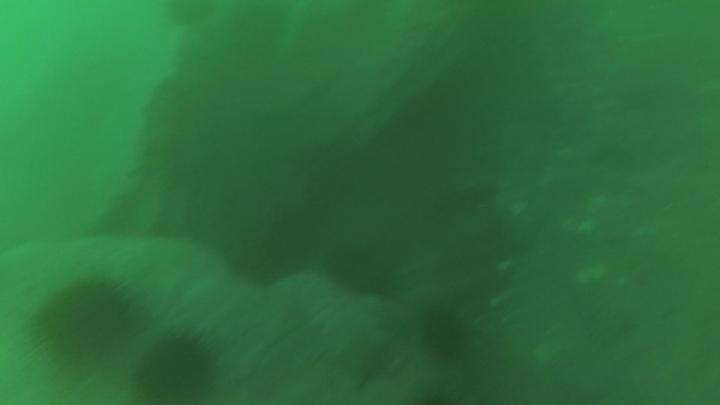echinus: (42, 285, 138, 366), (139, 338, 215, 405), (329, 241, 395, 298), (416, 305, 460, 358)
